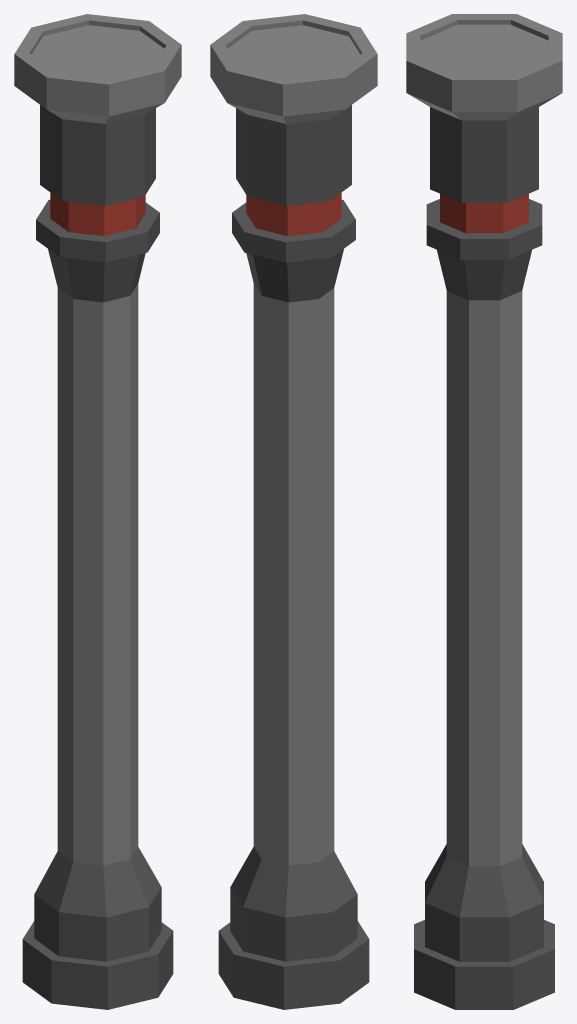
File: column.fbx
The picture shows the model from 3 angles, left to right: view 1: azimuth 30°, elevation 25°; view 2: azimuth 150°, elevation 25°; view 3: azimuth 270°, elevation 25°; orthographic projection.
Visible parts, largest first — view 1: Cylinder.006; view 2: Cylinder.006; view 3: Cylinder.006.
Part boxes in pixels (bbox=[...]): Cylinder.006: bbox=[14, 14, 181, 1009]; Cylinder.006: bbox=[210, 14, 377, 1009]; Cylinder.006: bbox=[406, 14, 562, 1009].
Bounding box in the file's own units: 47.97 × 316 × 47.97.
